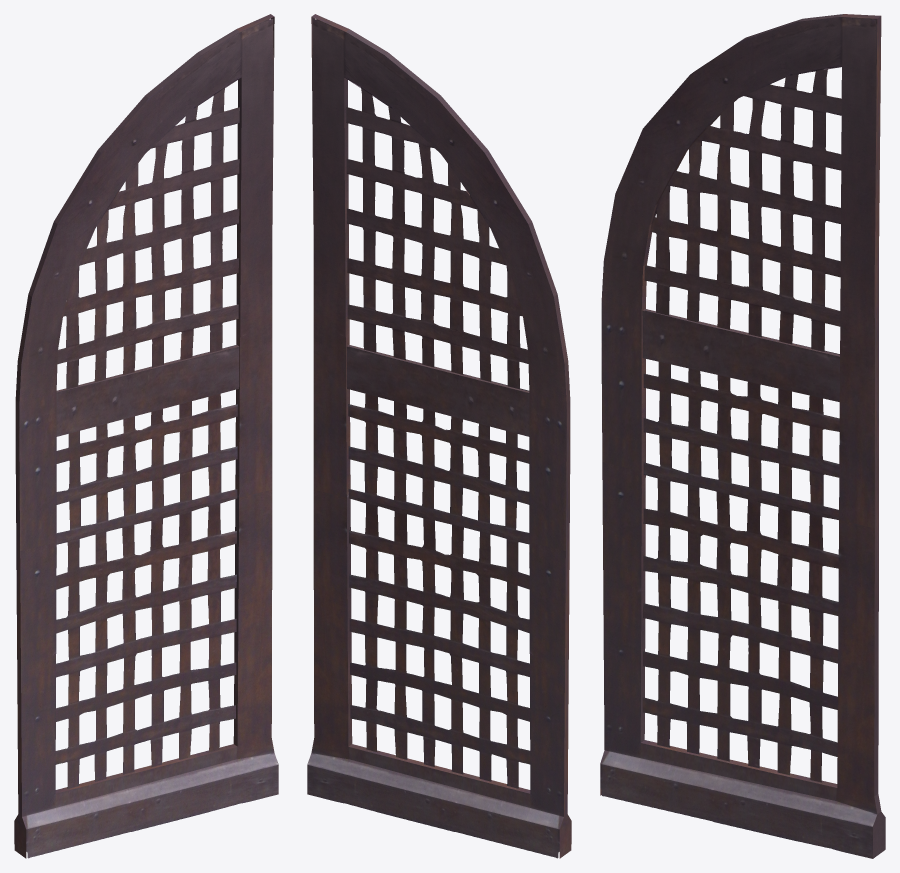
Rendered from gate-new-left.fbx.
3 views of the same model, side by side, from view 1: azimuth 30°, elevation 25°; view 2: azimuth 150°, elevation 25°; view 3: azimuth 330°, elevation 25° (orthographic). The views are drawn at different scales.
Parts seen in each view (by area): view 1: gate-new-left; view 2: gate-new-left; view 3: gate-new-left.
Part boxes in pixels (<box>): gate-new-left: <box>14,14,278,858</box>; gate-new-left: <box>307,14,571,858</box>; gate-new-left: <box>600,14,885,858</box>.
Bounding box in the file's own units: 122 × 356 × 9.86.
